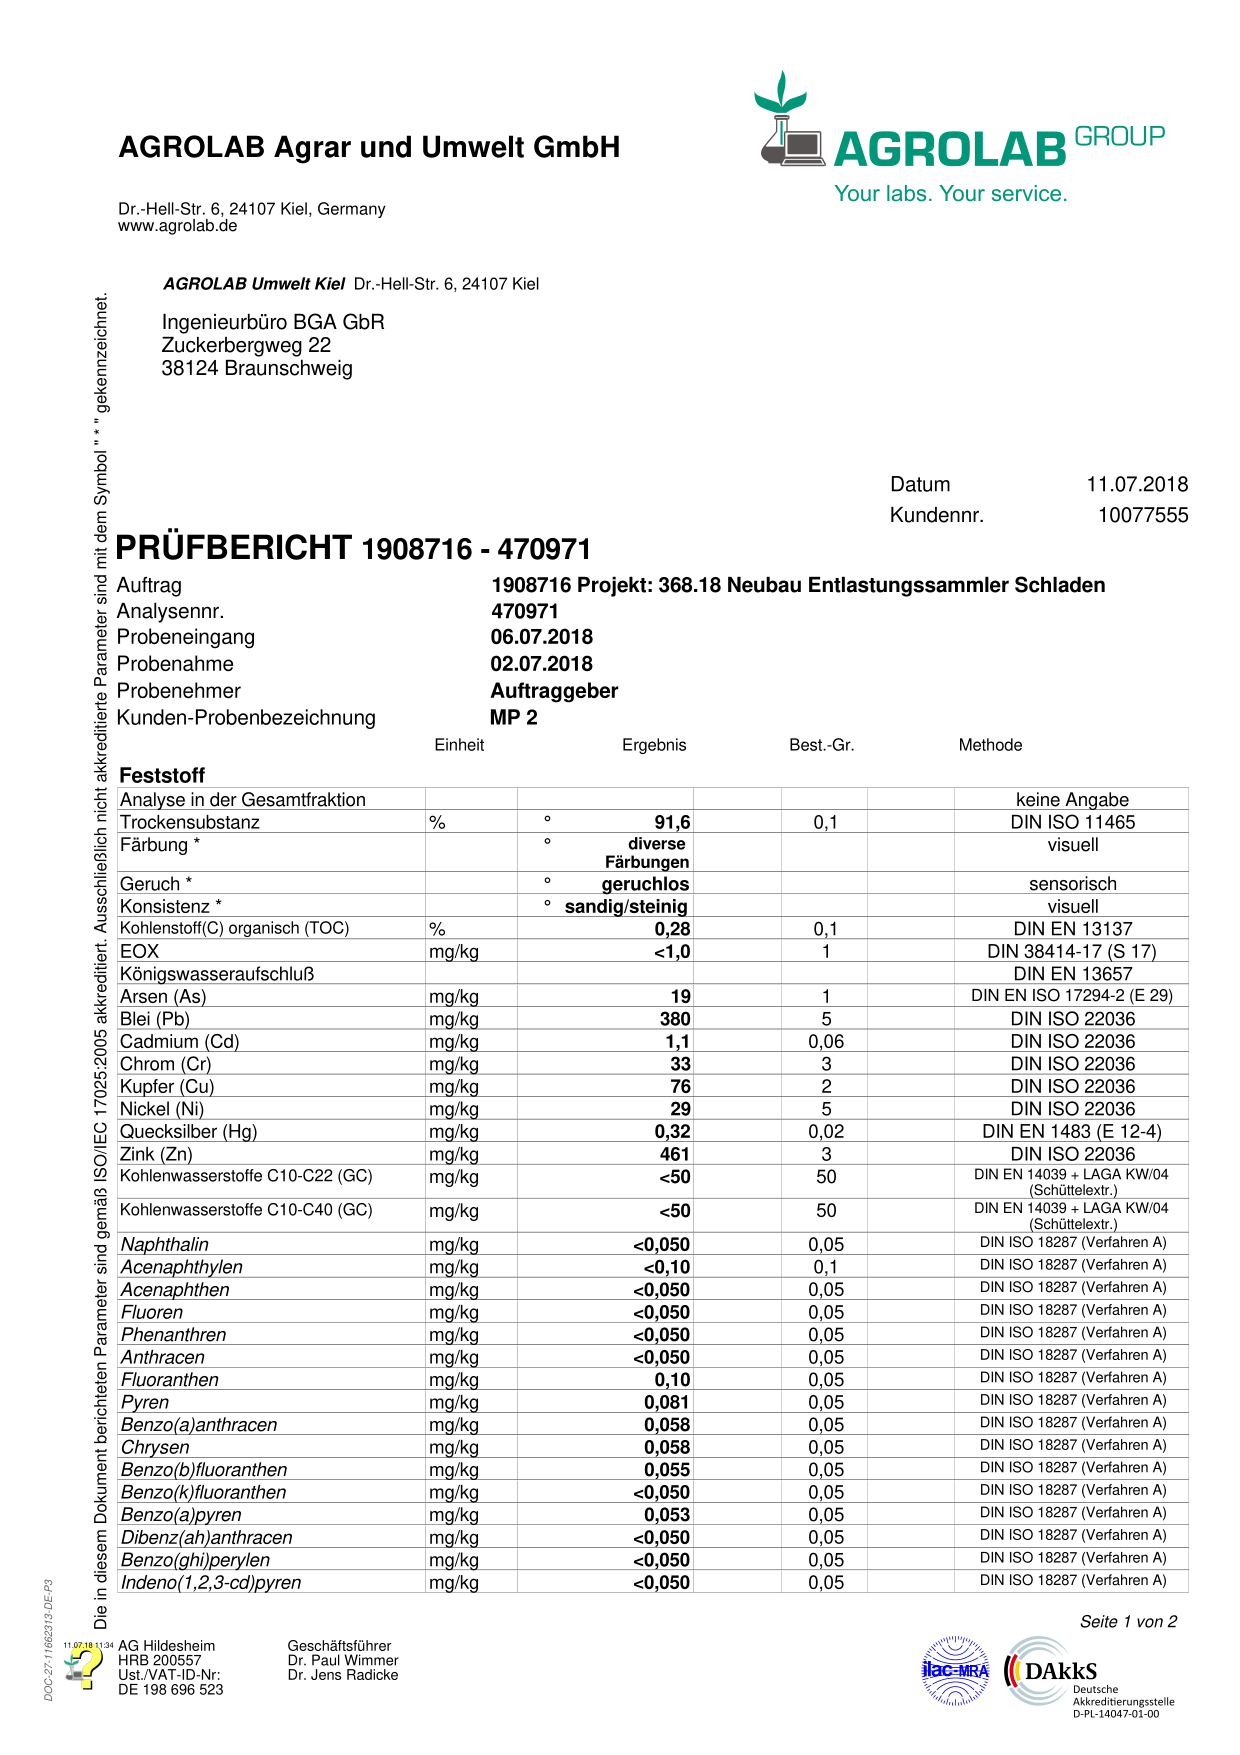table: (111, 765, 1194, 1603)
